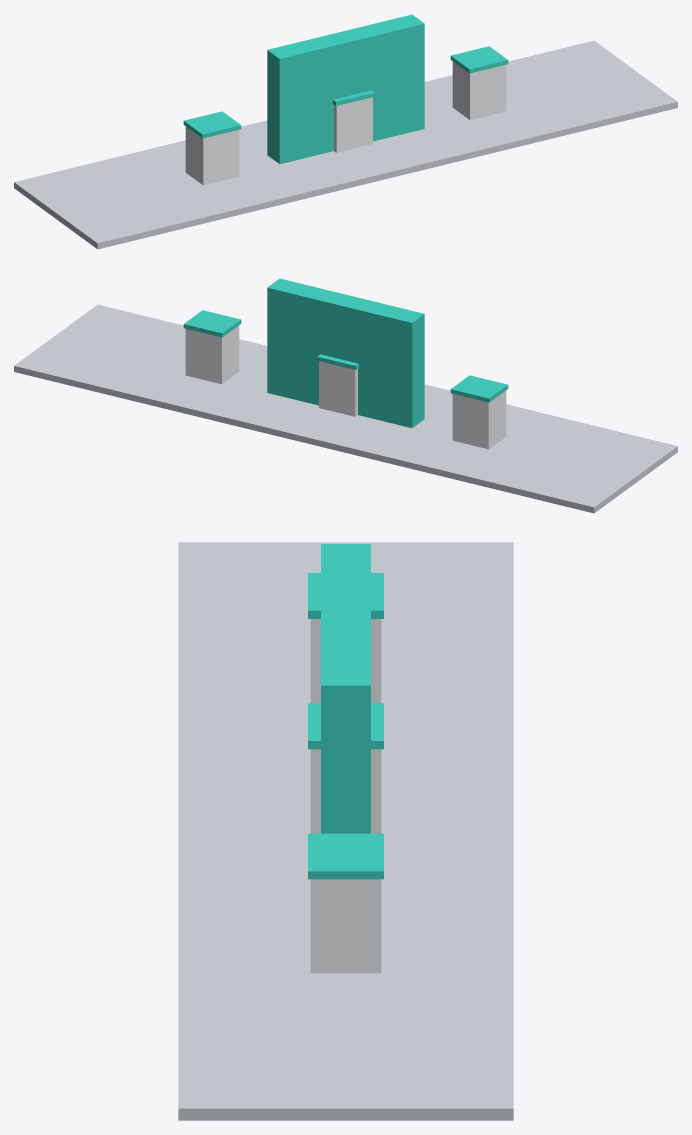
3 renders of one model, top to bottom at view 1: azimuth 30°, elevation 25°; view 2: azimuth 150°, elevation 25°; view 3: azimuth 270°, elevation 25°, orthographic. The views are drawn at different scales.
Visible parts, largest first — view 1: Exhibition Booth Concept; view 2: Exhibition Booth Concept; view 3: Exhibition Booth Concept.
Part boxes in pixels (x1,y1,x2,y2): Exhibition Booth Concept: (14,14,677,249); Exhibition Booth Concept: (14,278,677,513); Exhibition Booth Concept: (178,542,513,1120).
Size of the model in its own units: 12 by 2.2 by 3.
